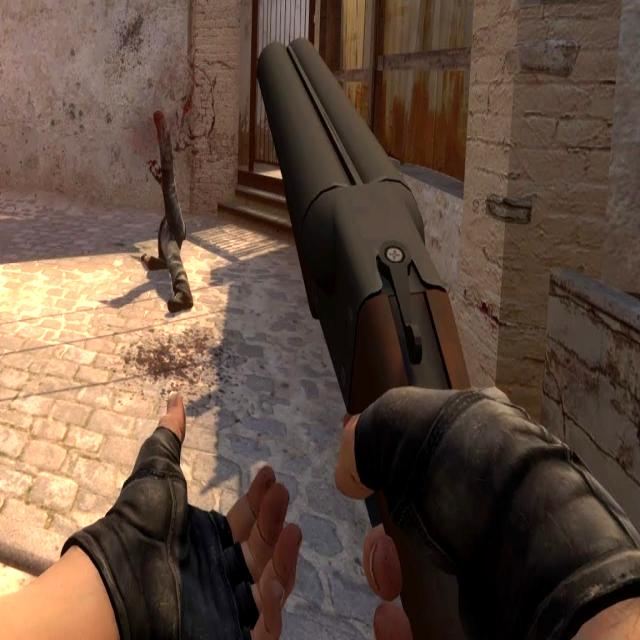shotgun: (249, 16, 517, 548)
